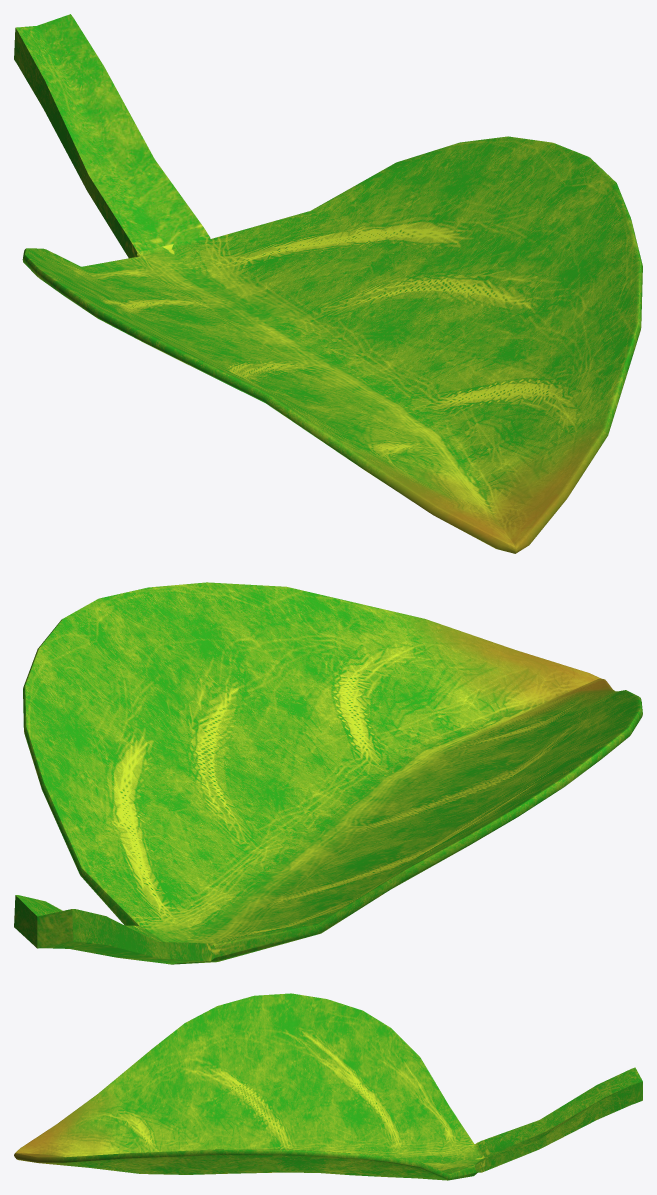
The model's file is Leaf_Low_3.fbx.
3 renders of one model, top to bottom at view 1: azimuth 30°, elevation 25°; view 2: azimuth 150°, elevation 25°; view 3: azimuth 270°, elevation 25°, orthographic. The views are drawn at different scales.
Parts seen in each view (by area): view 1: Leaf_Low3; view 2: Leaf_Low3; view 3: Leaf_Low3.
Part boxes in pixels (x1,y1,x2,y2): Leaf_Low3: [14, 14, 642, 553]; Leaf_Low3: [14, 582, 642, 964]; Leaf_Low3: [14, 993, 642, 1180].
Bounding box in the file's own units: 1.7 × 0.4892 × 2.86.
Materials: 1 (1 with a texture image).
